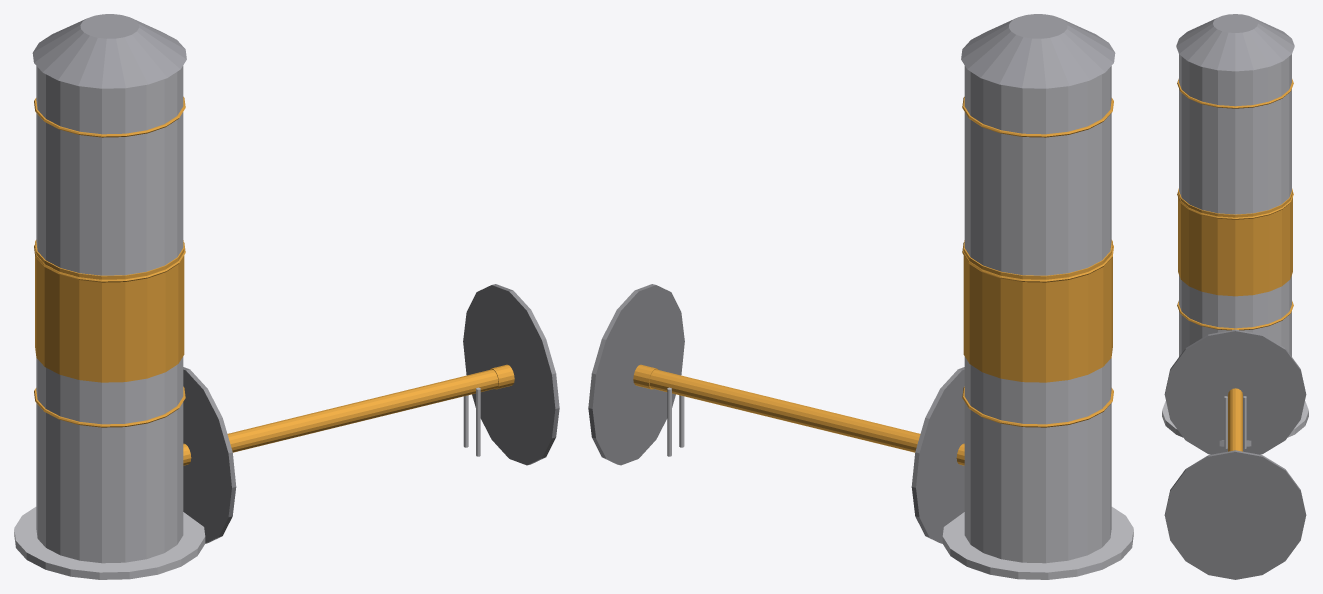
The model's file is co2 source.fbx.
3 renders of one model, left to right at view 1: azimuth 30°, elevation 25°; view 2: azimuth 150°, elevation 25°; view 3: azimuth 270°, elevation 25°, orthographic. The views are drawn at different scales.
Parts seen in each view (by area): view 1: FlueGas_Stack, FlueGas_Stack_CO2_ID_Band, FlueGas_Outlet_Flange, FlueGas_Stack_Cap, FlueGas_Duct_Flange_Stack, FlueGas_Duct, FlueGas_Stack_BaseRing, FlueGas_Stack_Band_0, FlueGas_Stack_Band_2; view 2: FlueGas_Stack, FlueGas_Stack_CO2_ID_Band, FlueGas_Outlet_Flange, FlueGas_Stack_Cap, FlueGas_Duct_Flange_Stack, FlueGas_Duct, FlueGas_Stack_BaseRing, FlueGas_Stack_Band_0, FlueGas_Stack_Band_2; view 3: FlueGas_Stack, FlueGas_Outlet_Flange, FlueGas_Duct_Flange_Stack, FlueGas_Stack_CO2_ID_Band, FlueGas_Stack_Cap, FlueGas_Duct, FlueGas_Stack_BaseRing, FlueGas_Stack_Band_2, FlueGas_Stack_Band_0, FlueGas_Stack_Band_1, FlueGas_Duct_Support_0, FlueGas_Duct_Support_1.
Part boxes in pixels (x1,y1,x2,y2): FlueGas_Stack: [36, 66, 183, 563]; FlueGas_Stack_CO2_ID_Band: [35, 240, 184, 382]; FlueGas_Outlet_Flange: [463, 284, 559, 465]; FlueGas_Stack_Cap: [32, 14, 186, 88]; FlueGas_Duct_Flange_Stack: [183, 367, 236, 543]; FlueGas_Duct: [227, 369, 498, 452]; FlueGas_Stack_BaseRing: [14, 507, 205, 579]; FlueGas_Stack_Band_0: [34, 386, 185, 427]; FlueGas_Stack_Band_2: [34, 96, 185, 137]; FlueGas_Stack: [964, 66, 1111, 563]; FlueGas_Stack_CO2_ID_Band: [963, 240, 1112, 382]; FlueGas_Outlet_Flange: [588, 284, 684, 465]; FlueGas_Stack_Cap: [961, 14, 1115, 88]; FlueGas_Duct_Flange_Stack: [911, 367, 964, 543]; FlueGas_Duct: [649, 369, 920, 452]; FlueGas_Stack_BaseRing: [942, 507, 1133, 579]; FlueGas_Stack_Band_0: [962, 386, 1113, 427]; FlueGas_Stack_Band_2: [962, 96, 1113, 137]; FlueGas_Stack: [1179, 54, 1291, 356]; FlueGas_Outlet_Flange: [1164, 450, 1306, 579]; FlueGas_Duct_Flange_Stack: [1164, 329, 1306, 454]; FlueGas_Stack_CO2_ID_Band: [1178, 188, 1292, 296]; FlueGas_Stack_Cap: [1176, 14, 1294, 71]; FlueGas_Duct: [1228, 388, 1242, 451]; FlueGas_Stack_BaseRing: [1162, 401, 1308, 446]; FlueGas_Stack_Band_2: [1177, 79, 1293, 108]; FlueGas_Stack_Band_0: [1177, 301, 1293, 330]; FlueGas_Stack_Band_1: [1177, 192, 1293, 219]; FlueGas_Duct_Support_0: [1243, 396, 1246, 448]; FlueGas_Duct_Support_1: [1224, 396, 1227, 448].
Size of the model in its own units: 685 by 713 by 234.
